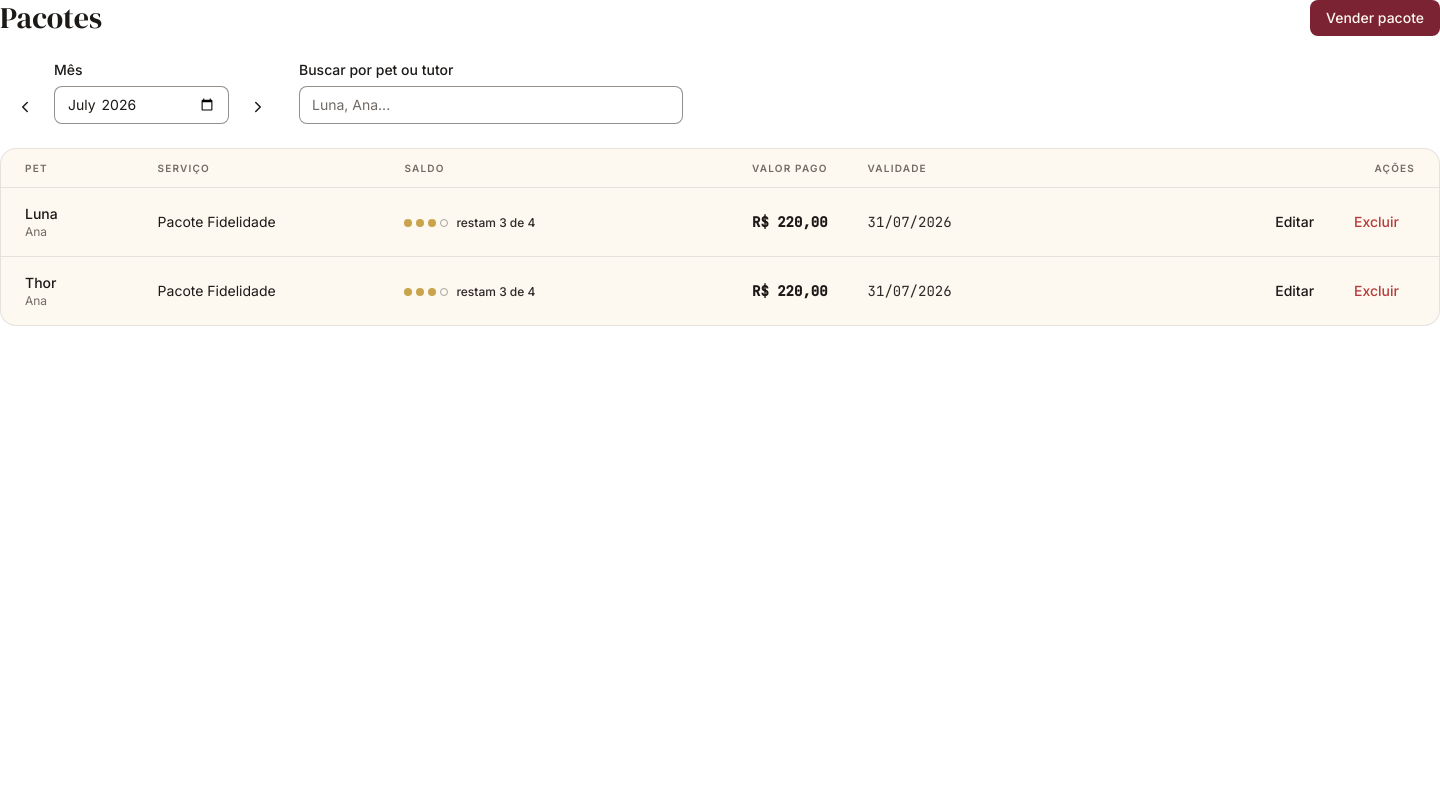
Test: Pacotes › erro de uma exclusão não vaza para o diálogo da venda seguinte
Check: the text "Luna" is shown, box [25,205,58,222]
What coordinates should you click on to do the following:
click the button "Excluir" in the row of "Luna"
I would click on:
 (1377, 222)
Its box is [1338,204,1415,240].
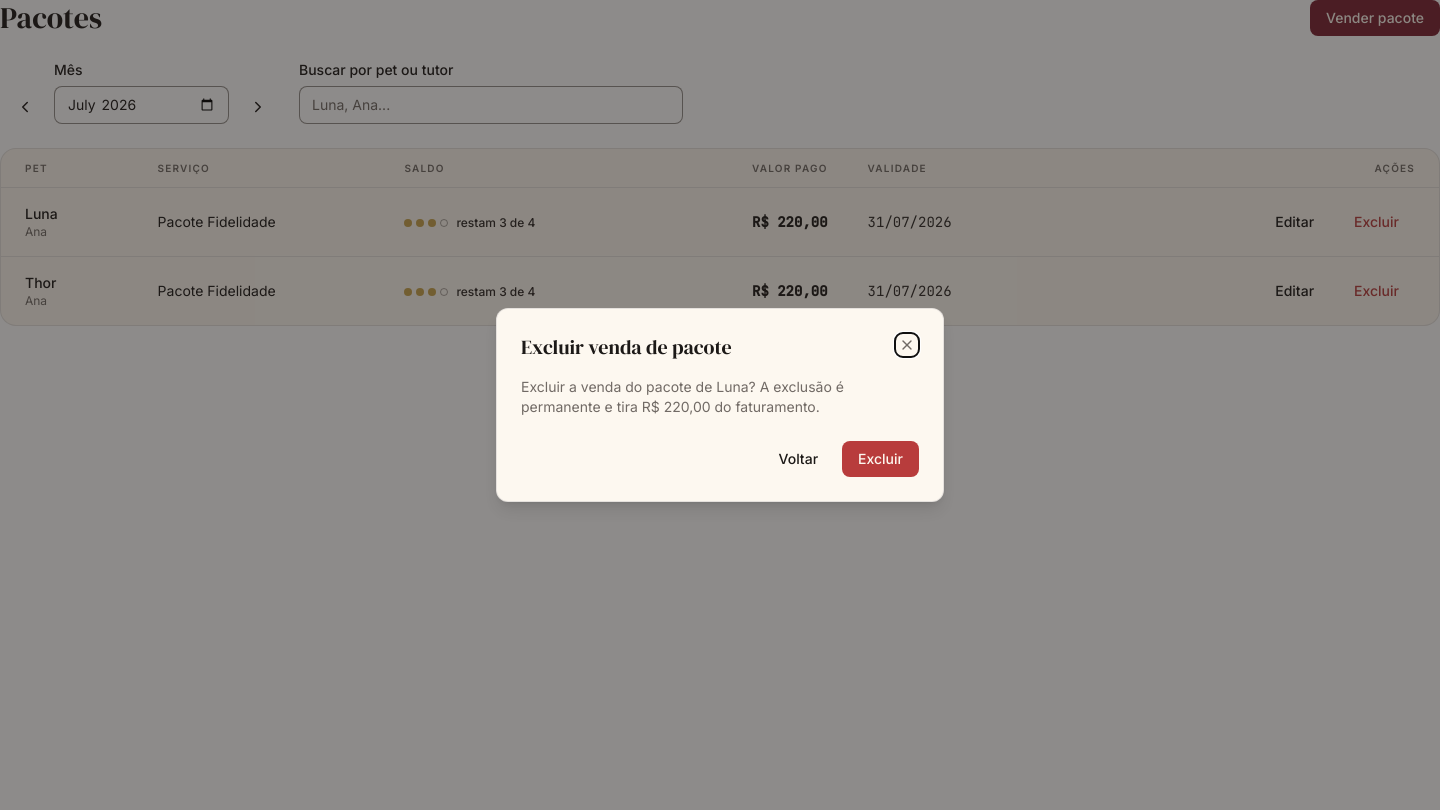
What coordinates should you click on to do the following:
click the button "Excluir"
I would click on:
 (881, 459)
Its box is [842,441,919,477].
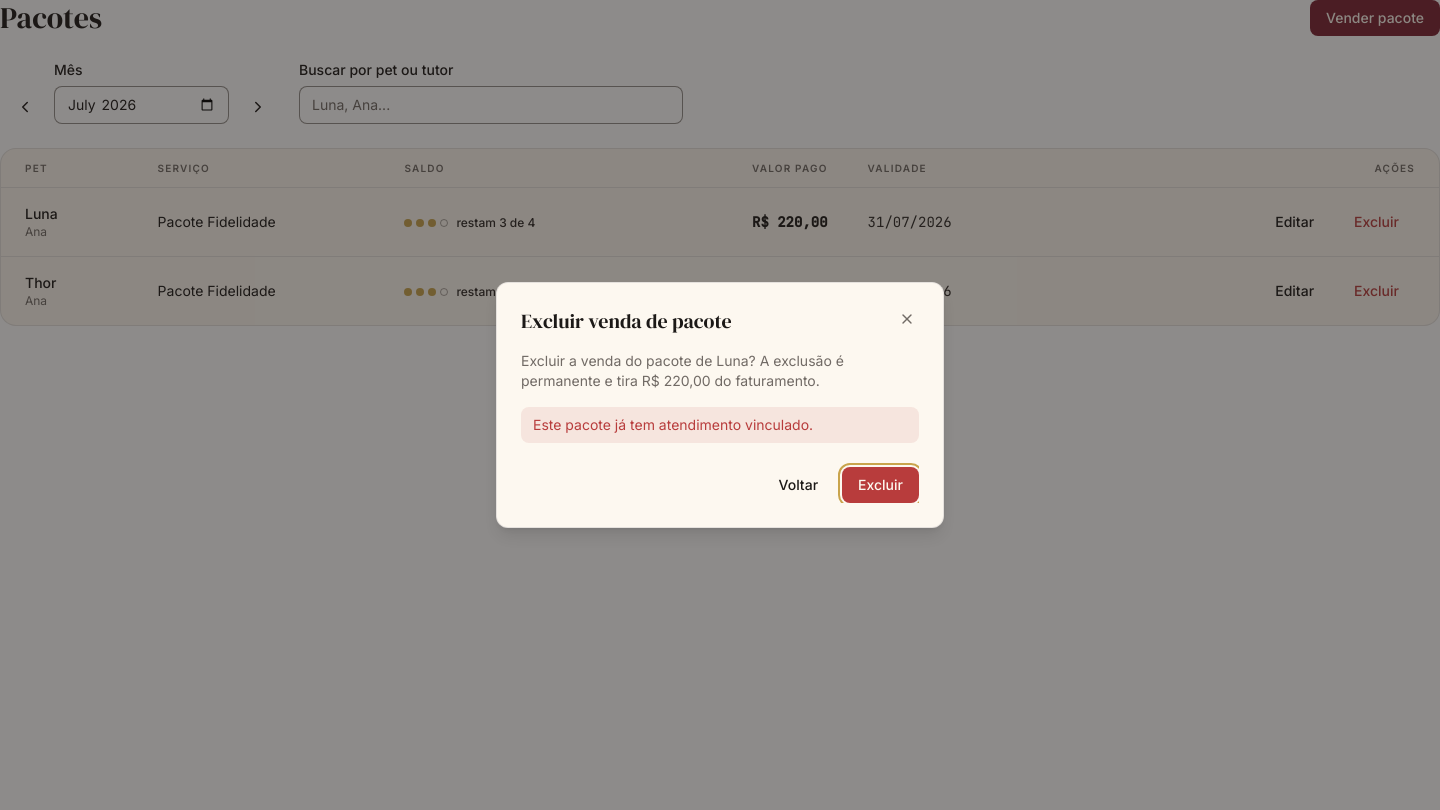
Check: the message "Este pacote já tem atendimento vinculado." is shown, box [521,407,919,443]
What coordinates should you click on to do the following:
click the button "Voltar"
I would click on:
 (798, 485)
Its box is [762,467,834,503].
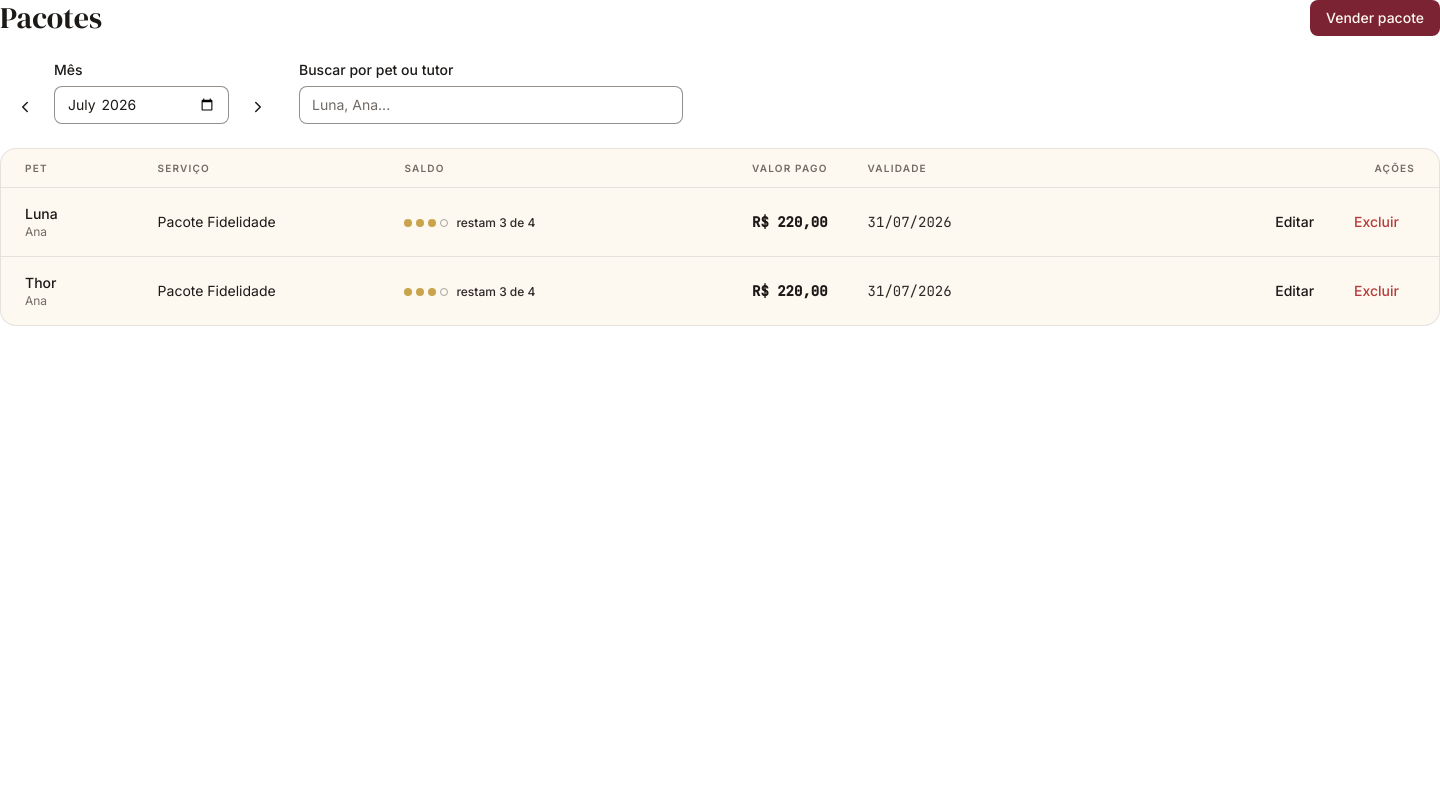
What coordinates should you click on to do the following:
click the button "Excluir" in the row of "Thor"
I would click on:
 (1377, 291)
Its box is [1338,273,1415,309].
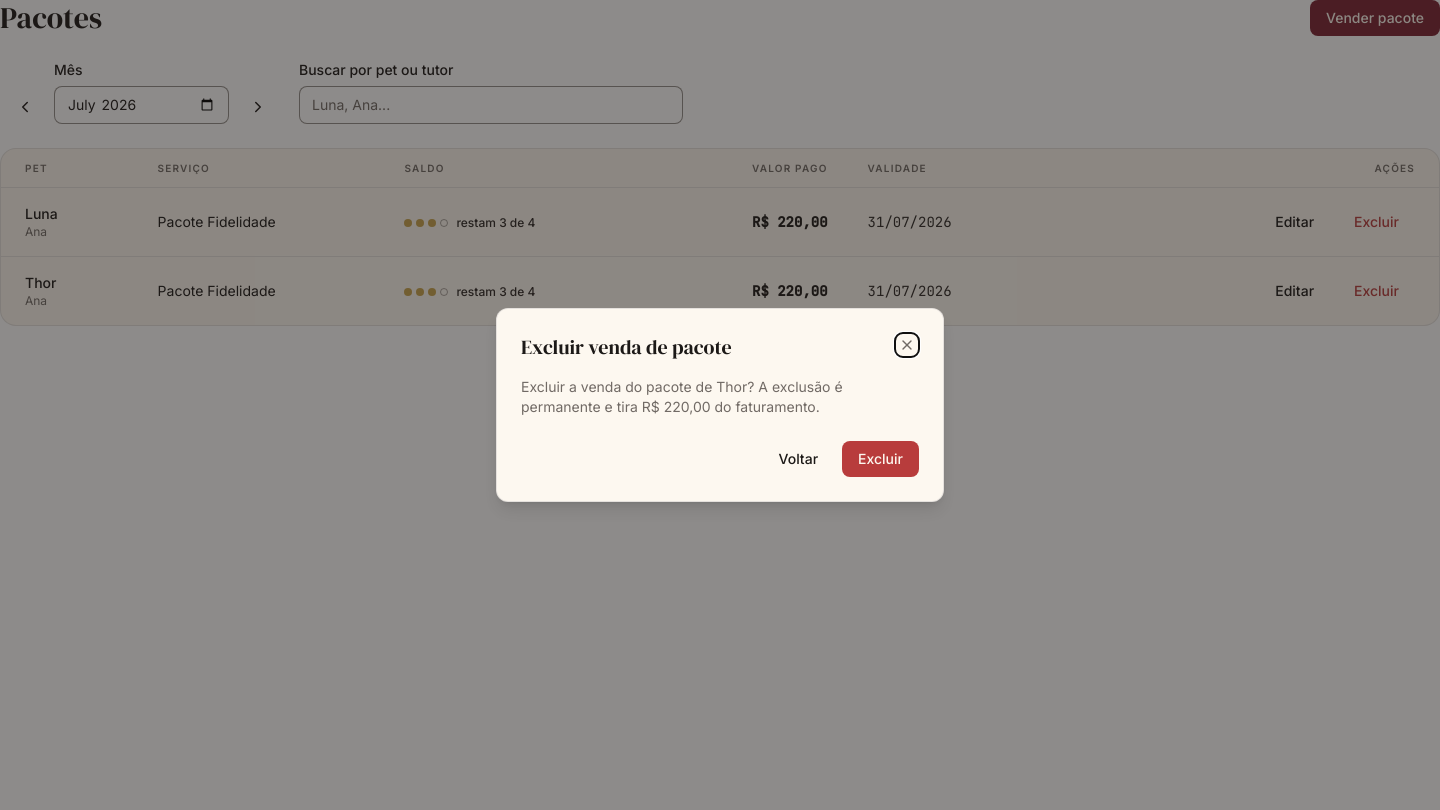
Check: the message "Este pacote já tem atendimento vinculado." is not shown
Check: the dialog shows "Thor", box [521,378,843,415]
